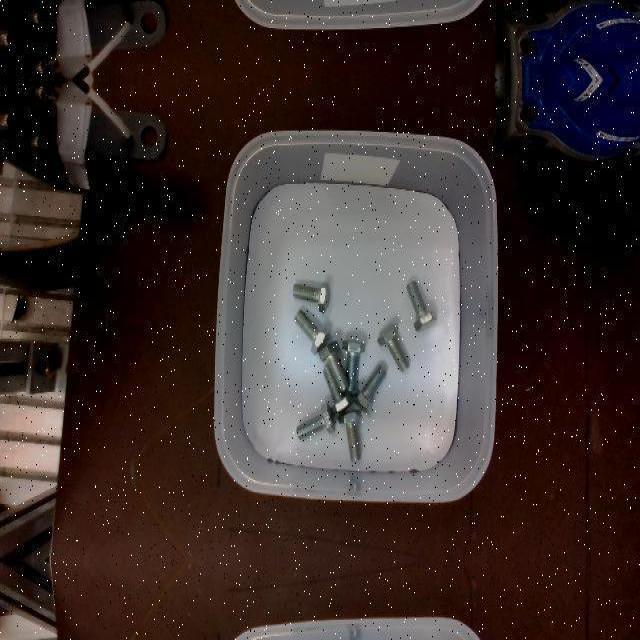screw: (351, 364, 388, 414), (293, 309, 331, 355), (377, 322, 410, 372), (319, 341, 349, 393), (296, 400, 335, 440), (406, 280, 437, 330), (336, 409, 362, 463), (293, 282, 330, 314)
